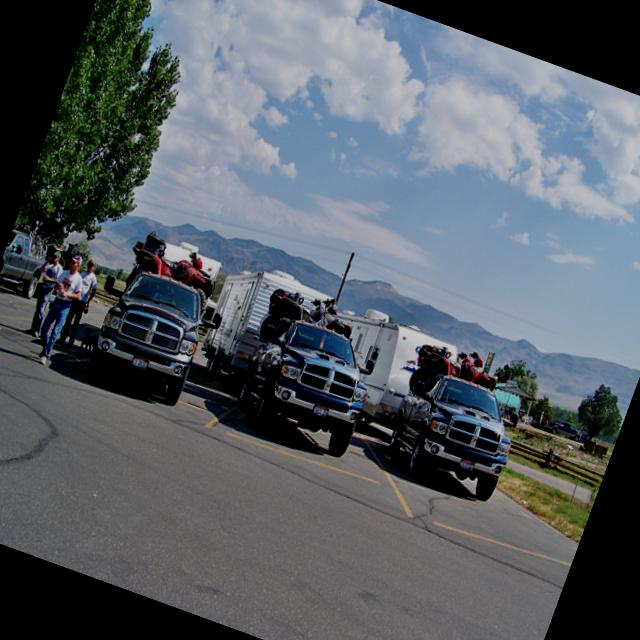Vehicle: (74, 240, 232, 416), (227, 304, 385, 464), (301, 301, 464, 445), (376, 358, 529, 506), (192, 264, 322, 408), (395, 330, 505, 421), (253, 276, 355, 366), (128, 229, 224, 295), (0, 225, 58, 309), (0, 224, 54, 303), (542, 414, 582, 442)
